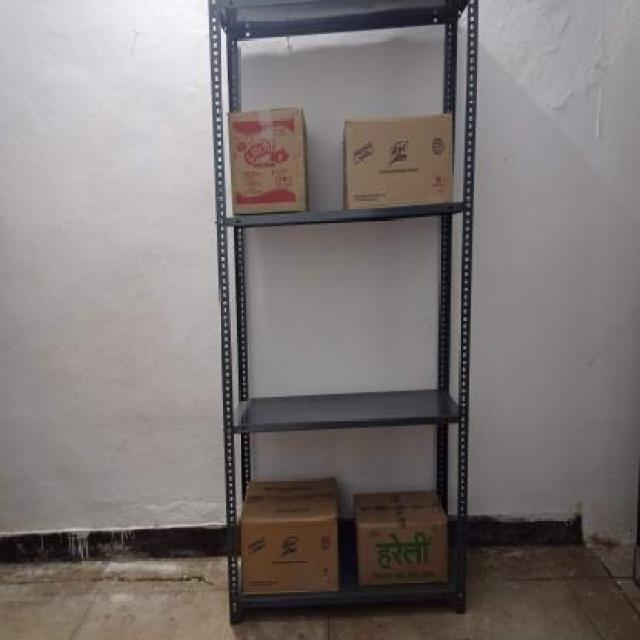box: (344, 112, 454, 212), (232, 106, 303, 217), (239, 513, 336, 593), (354, 518, 448, 587)
